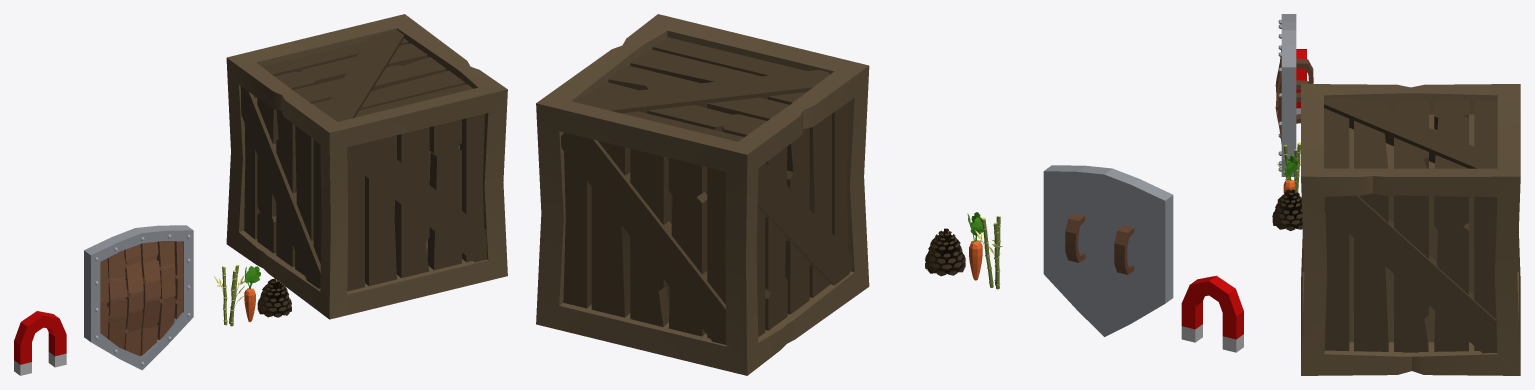
File: Itemss.fbx
The picture shows the model from 3 angles, left to right: view 1: azimuth 30°, elevation 25°; view 2: azimuth 150°, elevation 25°; view 3: azimuth 270°, elevation 25°; orthographic projection. The views are drawn at different scales.
Visible parts, largest first — view 1: Crate.002, Shield_Heater_2.002, Node.002, PineCone_mesh.002, bamboo.002, carrot.002; view 2: Crate.002, Shield_Heater_2.002, Node.002, PineCone_mesh.002, bamboo.002, carrot.002; view 3: Crate.002, Shield_Heater_2.002, PineCone_mesh.002, carrot.002, bamboo.002, Node.002.
Part boxes in pixels (box(x1,y1,x2,y2)): Crate.002: box(226, 14, 507, 319); Shield_Heater_2.002: box(84, 225, 193, 370); Node.002: box(14, 311, 66, 375); PineCone_mesh.002: box(257, 278, 291, 317); bamboo.002: box(214, 265, 244, 326); carrot.002: box(244, 266, 260, 321); Crate.002: box(536, 14, 869, 375); Shield_Heater_2.002: box(1043, 165, 1173, 336); Node.002: box(1181, 275, 1243, 352); PineCone_mesh.002: box(925, 228, 965, 276); bamboo.002: box(974, 216, 1002, 289); carrot.002: box(967, 212, 983, 280); Crate.002: box(1301, 84, 1520, 375); Shield_Heater_2.002: box(1275, 14, 1313, 176); PineCone_mesh.002: box(1272, 189, 1302, 230); carrot.002: box(1283, 154, 1297, 193); bamboo.002: box(1277, 142, 1300, 193); Node.002: box(1296, 49, 1306, 114).
Size of the model in its own units: 959 by 348 by 394.
13 materials, 2 textured.
